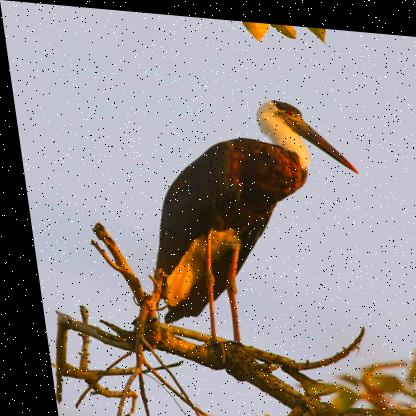Burung: (118, 81, 384, 366)
